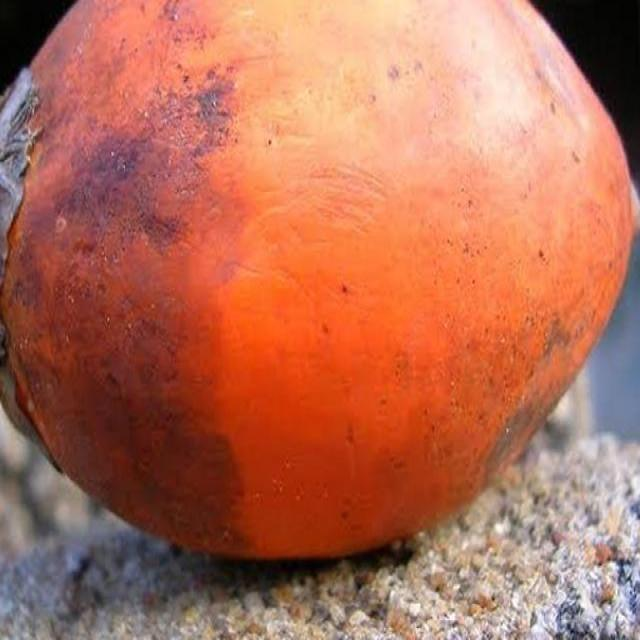good: (0, 0, 639, 564)
